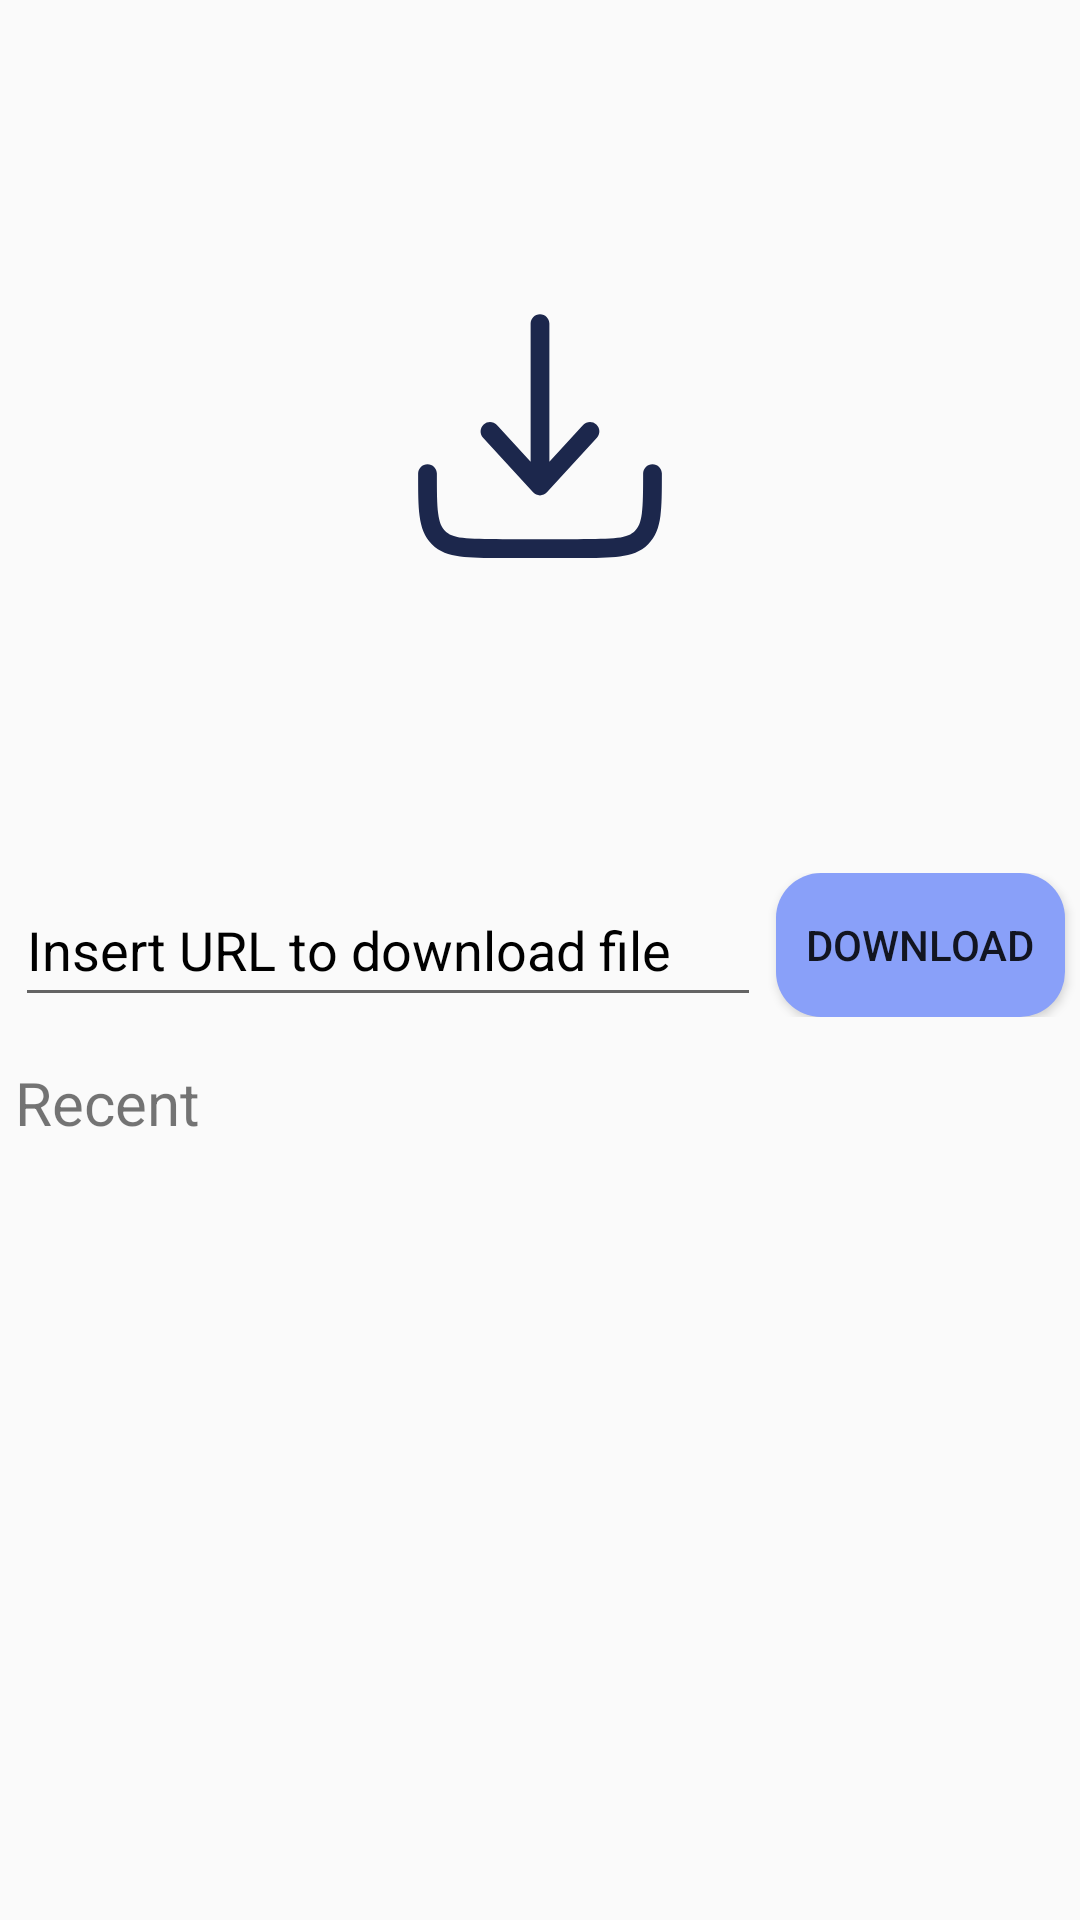

Icons on this 1080 × 1920 Android screen, each with the point to tap as (x,y):
download minimalistic: (540,436)
